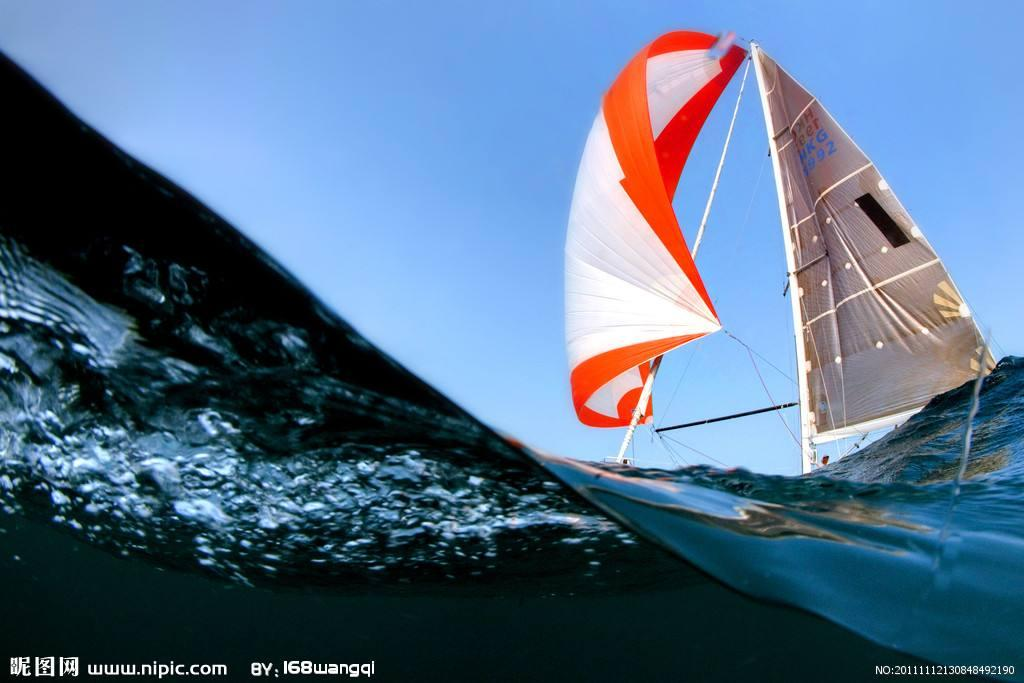fanchuan: (573, 22, 978, 477)
